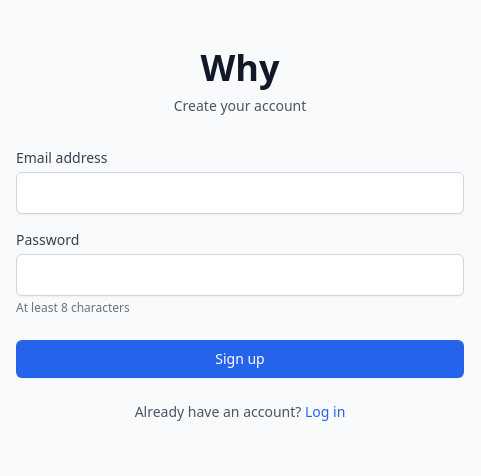
SignupPage › should display generic error when error has no message
Type "newuser@example.com" into the field labelled "Email address".
click(240, 193); type("newuser@example.com")  # box [16,172,464,214]
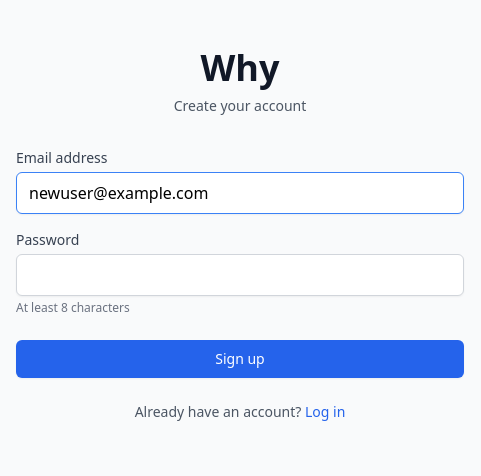
Type "password123" into the password field labelled "Password".
click(240, 275); type("password123")  # box [16,254,464,296]
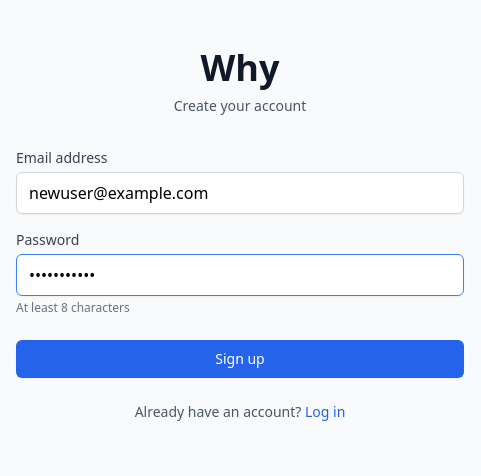
Click the button "Sign up".
click(240, 359)  # box [16,340,464,378]
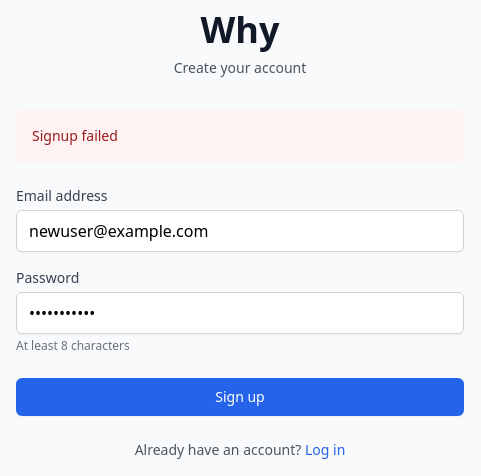
expect the text "Signup failed" is shown: met, box [32,126,118,145]
